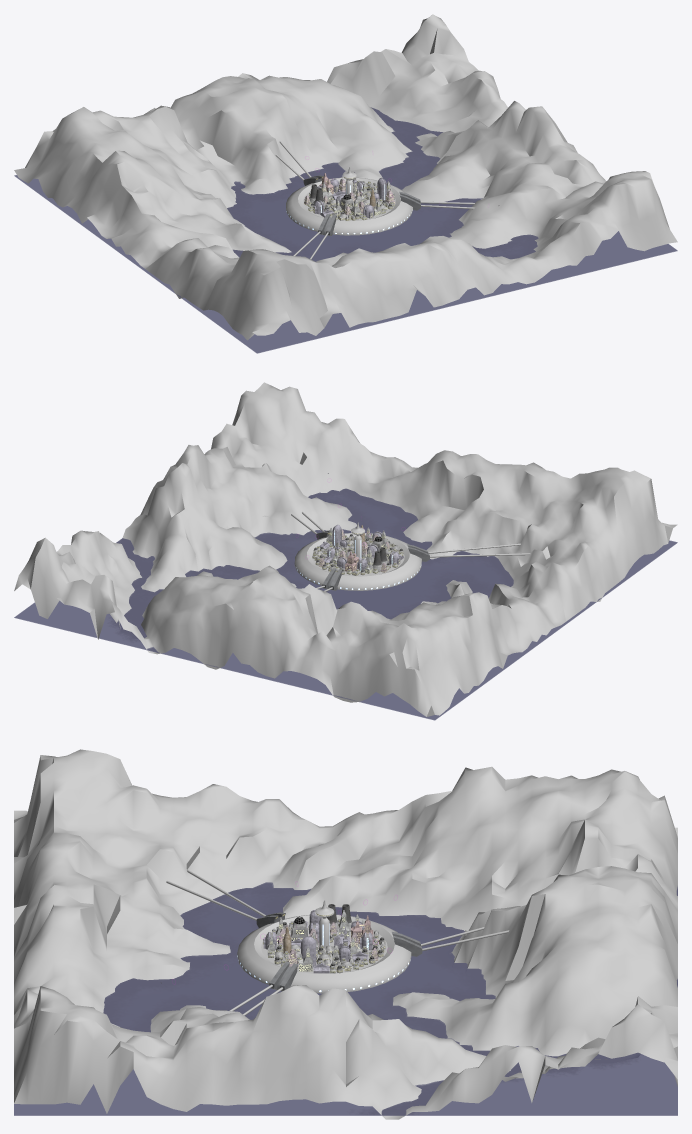
The picture shows the model from 3 angles, top to bottom: view 1: azimuth 30°, elevation 25°; view 2: azimuth 150°, elevation 25°; view 3: azimuth 270°, elevation 25°; orthographic projection. The views are drawn at different scales.
Visible parts, largest first — view 1: terrain, Planar_Water_1, Planar_Water_2, Planar_Water_foam, City_Base, mounting_brackets, cables, Medium_Building_2, Medium_Buildings_1; view 2: terrain, Planar_Water_1, Planar_Water_2, Planar_Water_foam, City_Base, cables, mounting_brackets, Medium_Buildings_1, Medium_Building_2; view 3: terrain, Planar_Water_1, Planar_Water_2, Planar_Water_foam, City_Base, cables, mounting_brackets, Medium_Building_2, Medium_Buildings_1, Medium_Building_3, buildings_small_2.
Part boxes in pixels (bbox=[...]): terrain: bbox=[14, 14, 677, 340]; Planar_Water_1: bbox=[14, 126, 677, 352]; Planar_Water_2: bbox=[15, 157, 676, 353]; Planar_Water_foam: bbox=[227, 107, 538, 259]; City_Base: bbox=[286, 177, 412, 235]; mounting_brackets: bbox=[303, 175, 420, 236]; cables: bbox=[275, 141, 474, 259]; Medium_Building_2: bbox=[309, 181, 394, 216]; Medium_Buildings_1: bbox=[313, 178, 379, 218]; terrain: bbox=[14, 382, 677, 716]; Planar_Water_1: bbox=[14, 492, 677, 719]; Planar_Water_2: bbox=[14, 495, 677, 720]; Planar_Water_foam: bbox=[107, 488, 513, 642]; City_Base: bbox=[294, 533, 421, 590]; cables: bbox=[291, 511, 530, 591]; mounting_brackets: bbox=[316, 530, 429, 590]; Medium_Buildings_1: bbox=[327, 531, 400, 571]; Medium_Building_2: bbox=[326, 527, 391, 573]; terrain: bbox=[14, 749, 677, 1119]; Planar_Water_1: bbox=[14, 882, 677, 1115]; Planar_Water_2: bbox=[14, 884, 677, 1115]; Planar_Water_foam: bbox=[103, 882, 643, 1115]; City_Base: bbox=[237, 914, 411, 993]; cables: bbox=[166, 869, 509, 1015]; mounting_brackets: bbox=[256, 912, 422, 991]; Medium_Building_2: bbox=[267, 910, 364, 971]; Medium_Buildings_1: bbox=[263, 909, 372, 961]; Medium_Building_3: bbox=[278, 922, 378, 968]; buildings_small_2: bbox=[274, 922, 385, 973].
Bounding box in the file's own units: 512 × 93.99 × 512.
